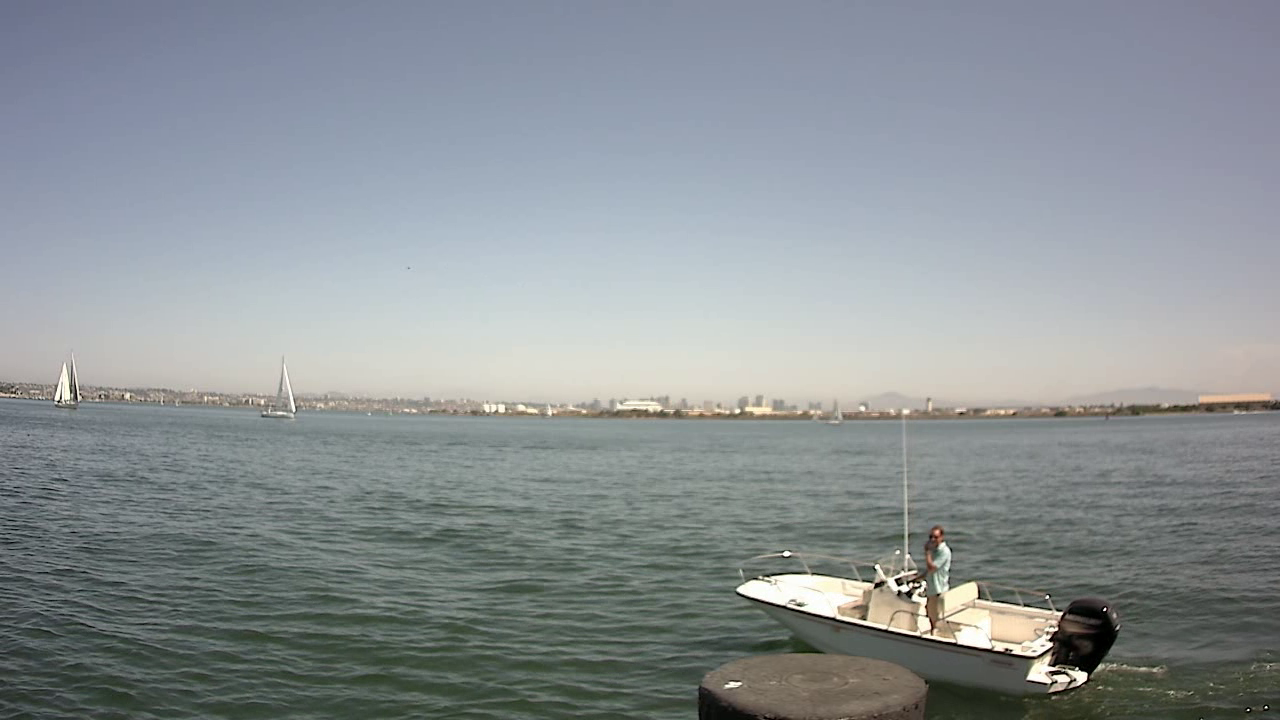target: (725, 520, 1126, 703)
